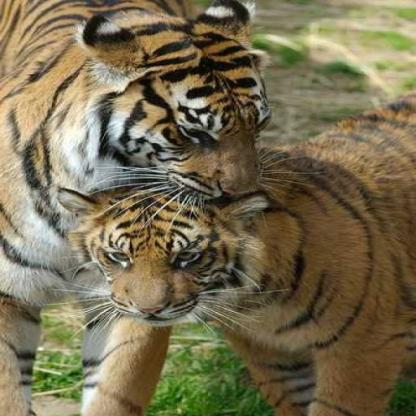Tiger: (0, 0, 278, 415), (60, 96, 415, 415)
